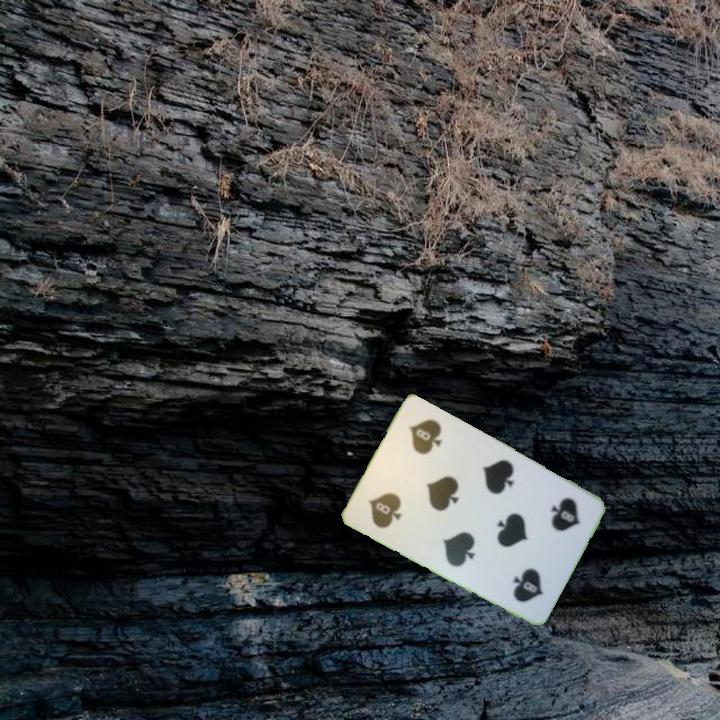s_8.png: (516, 478, 597, 563), (352, 458, 433, 543)
